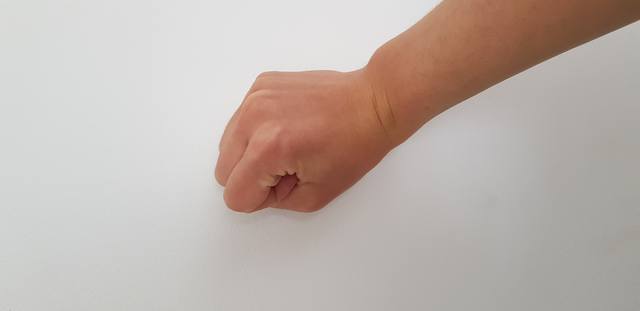Rock: (183, 48, 453, 245)
